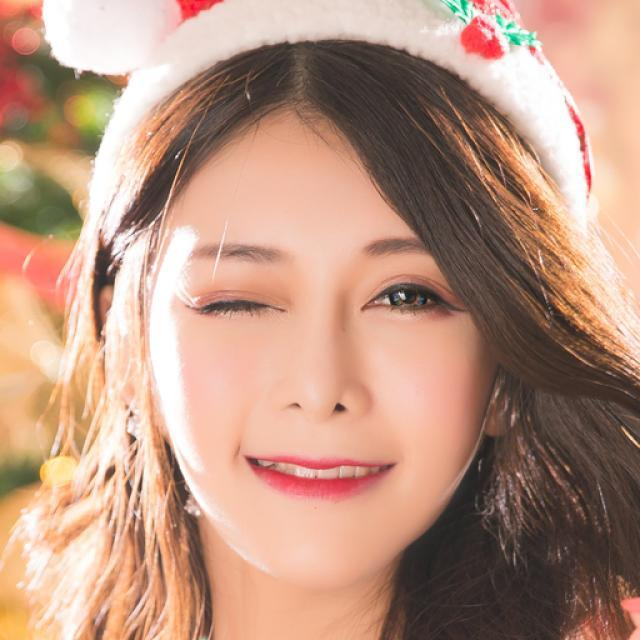happy: (142, 80, 496, 591)
